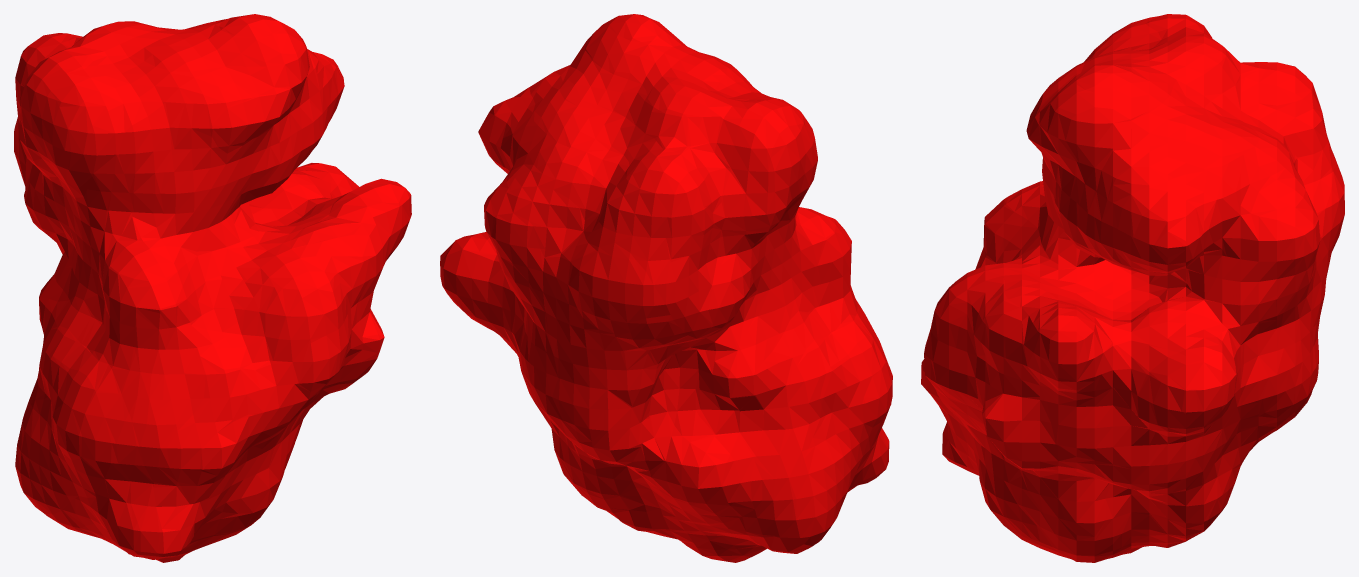
File: yhiN_coarse.dae
3 renders of one model, left to right at view 1: azimuth 30°, elevation 25°; view 2: azimuth 150°, elevation 25°; view 3: azimuth 270°, elevation 25°, orthographic. The views are drawn at different scales.
Visible parts, largest first — view 1: yhiN; view 2: yhiN; view 3: yhiN.
Part boxes in pixels (left/top/right/bottom): yhiN: left=14, top=14, right=411, bottom=562; yhiN: left=440, top=14, right=892, bottom=562; yhiN: left=921, top=14, right=1344, bottom=562.
Size of the model in its own units: 55.11 by 73.83 by 52.74.
